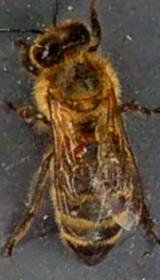varroa_mite: (68, 140, 90, 163)
